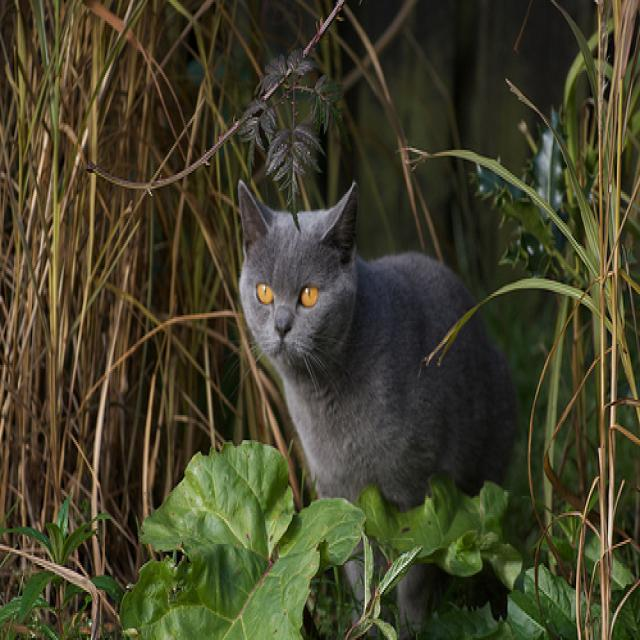British_Shorthair: (237, 179, 356, 363)
